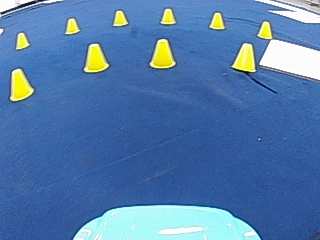cone: (8, 67, 34, 100), (83, 42, 109, 72), (149, 38, 175, 68), (231, 41, 256, 71), (208, 11, 225, 29), (256, 20, 272, 39), (160, 7, 176, 24), (112, 9, 128, 26), (64, 17, 80, 34), (14, 31, 29, 49)
